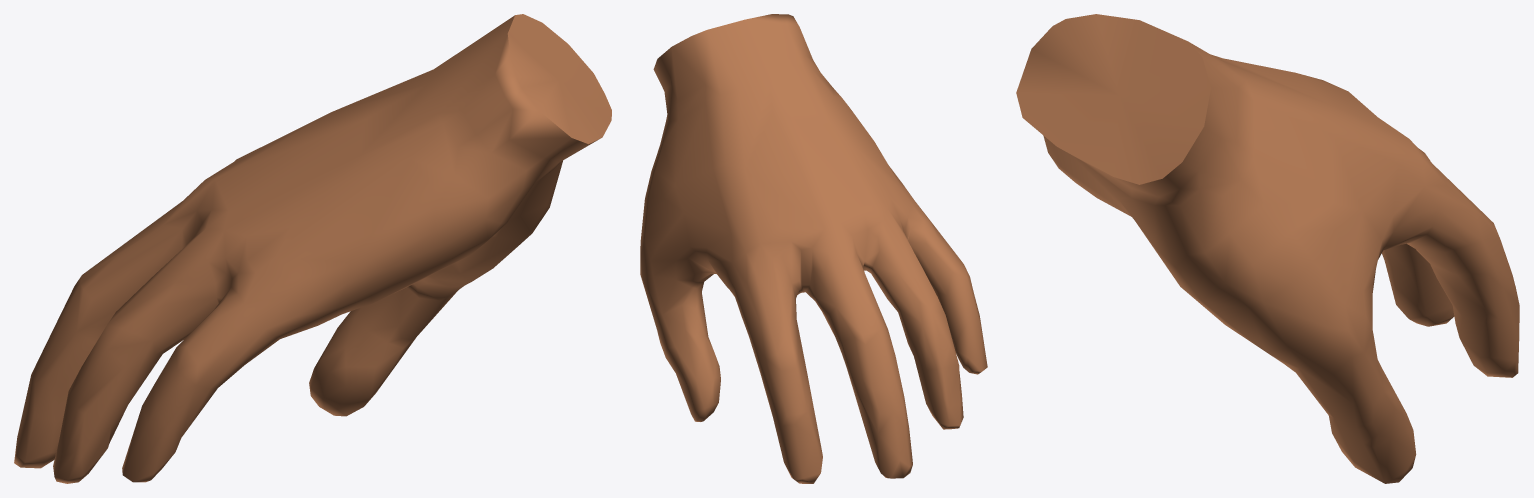
File: LeftHand.fbx
3 views of the same model, side by side, from view 1: azimuth 30°, elevation 25°; view 2: azimuth 150°, elevation 25°; view 3: azimuth 270°, elevation 25° (orthographic). The views are drawn at different scales.
Parts seen in each view (by area): view 1: node_id5; view 2: node_id5; view 3: node_id5.
Part boxes in pixels (x1=…): node_id5: x1=14, y1=14, x2=611, y2=483; node_id5: x1=640, y1=14, x2=987, y2=483; node_id5: x1=1016, y1=14, x2=1519, y2=483.
Size of the model in its own units: 0.2042 by 0.1837 by 0.1707.
Materials: 1 (1 with a texture image).
